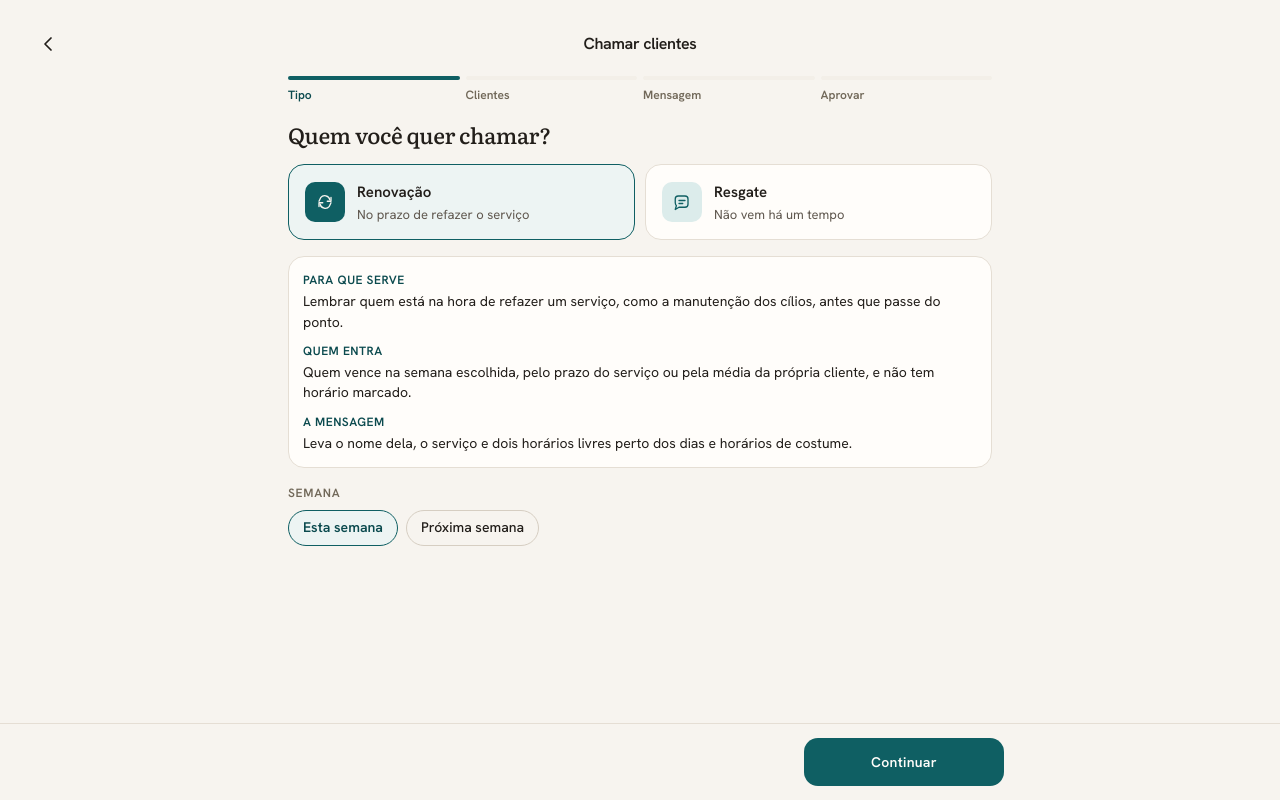
Test: Retorno de clientes › Renovação › a mensagem que vai sair usa o nome, o serviço e o prazo da primeira marcada
Click the button "Continuar" at {"x": 904, "y": 762}, box [804, 738, 1004, 786]
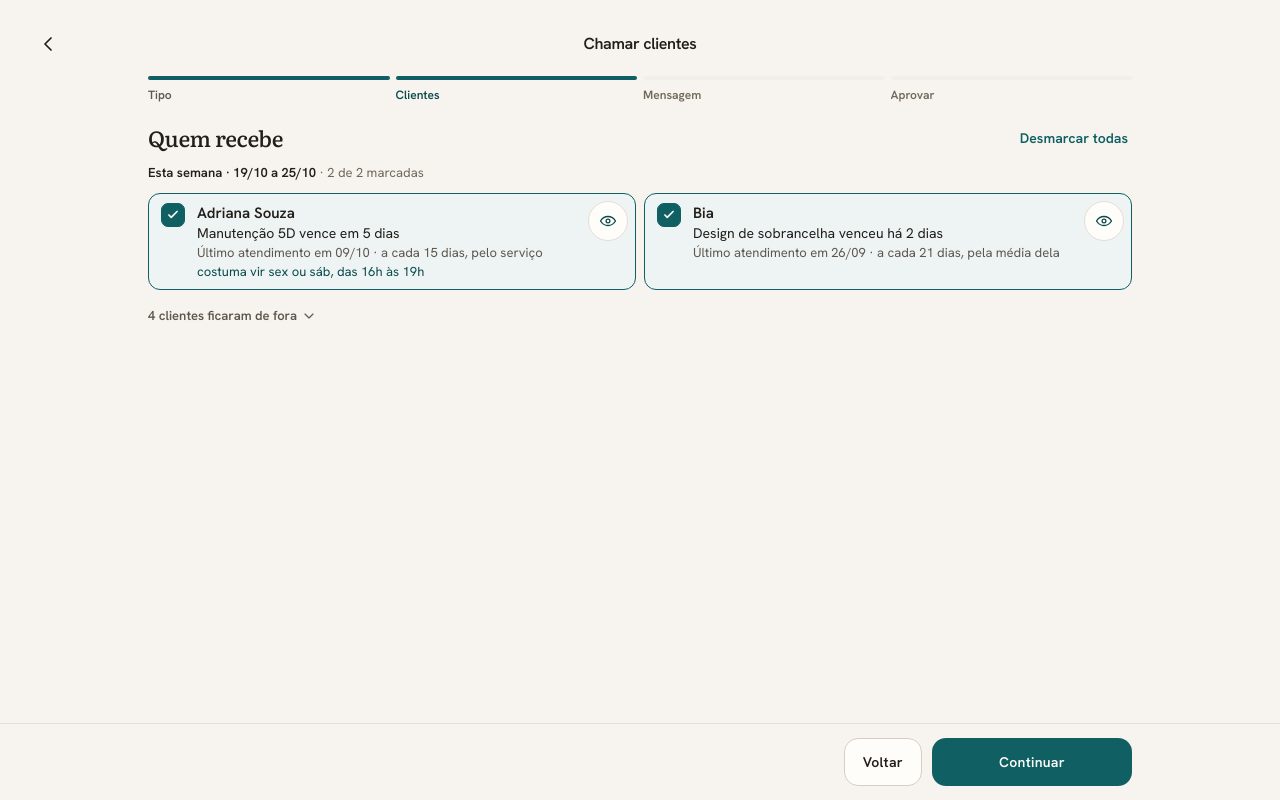
Result: the text "Adriana Souza" is shown at [197, 203, 295, 223]
Click the button "Continuar" at {"x": 1032, "y": 762}, box [932, 738, 1132, 786]
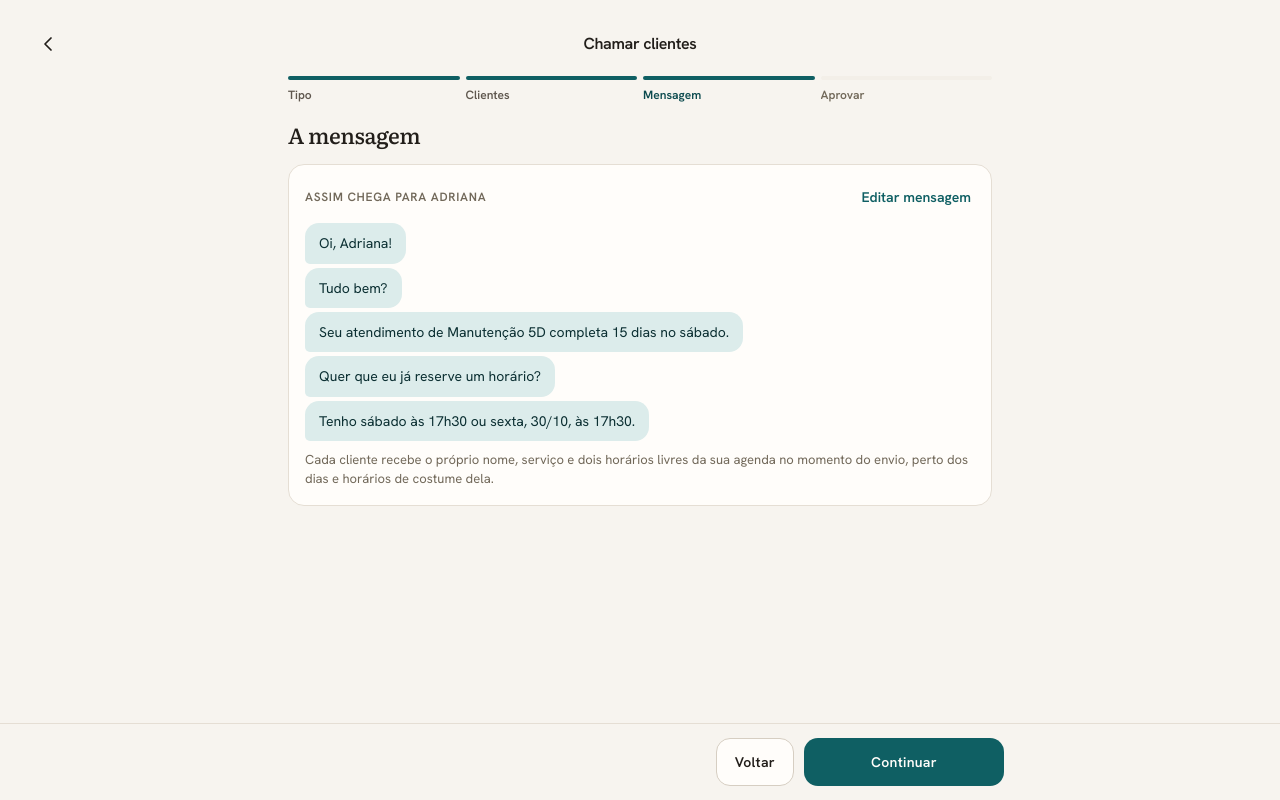
Result: the list item with class "return-message-bubble" reads "Tenho sábado às 17h30 ou sexta, 30/10, às 17h30." at [319, 412, 635, 430]
